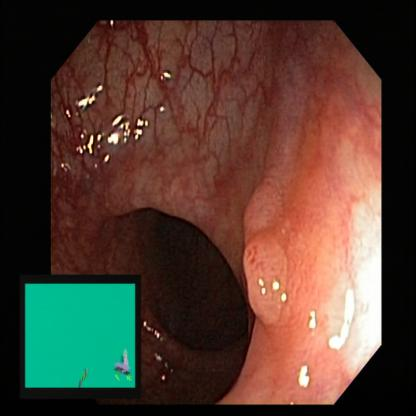Labels: (20, 277, 142, 396)
Polyps: (233, 191, 304, 336)
